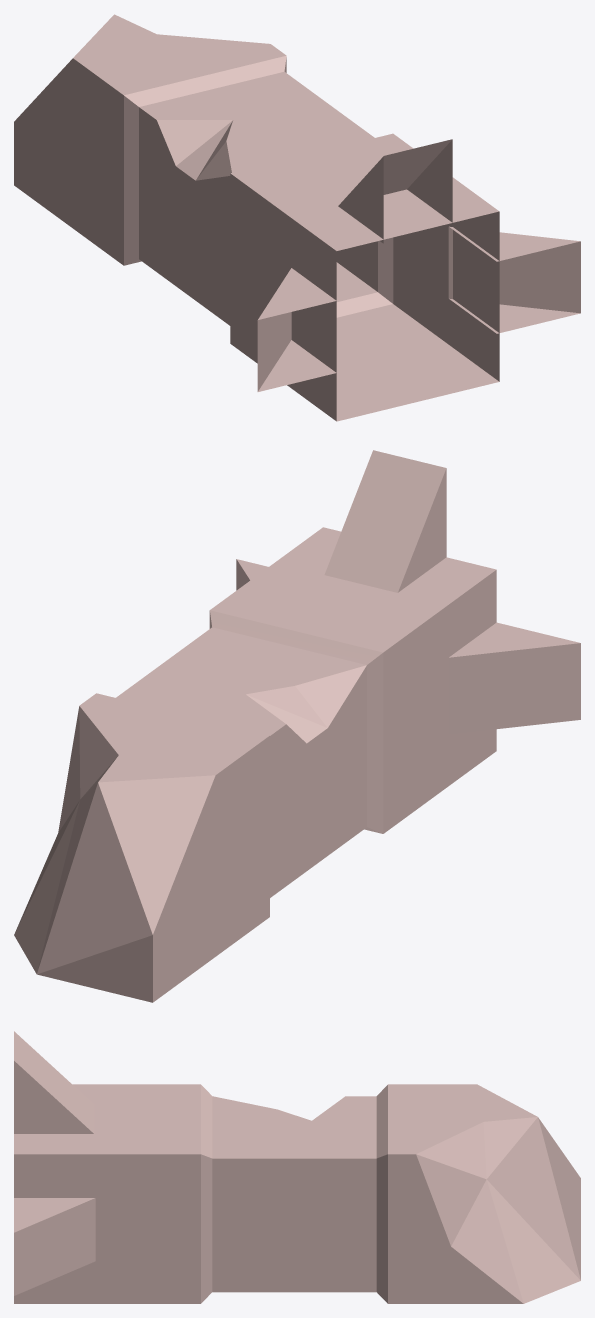
3 views of the same model, one above another, from view 1: azimuth 30°, elevation 25°; view 2: azimuth 150°, elevation 25°; view 3: azimuth 270°, elevation 25° (orthographic). The views are drawn at different scales.
Parts seen in each view (by area): view 1: Object28; view 2: Object28; view 3: Object28.
Part boxes in pixels (x1,y1,x2,y2): Object28: (14, 14, 580, 421); Object28: (14, 450, 580, 1002); Object28: (14, 1031, 580, 1303).
Size of the model in its own units: 27200 by 20433 by 47020.
